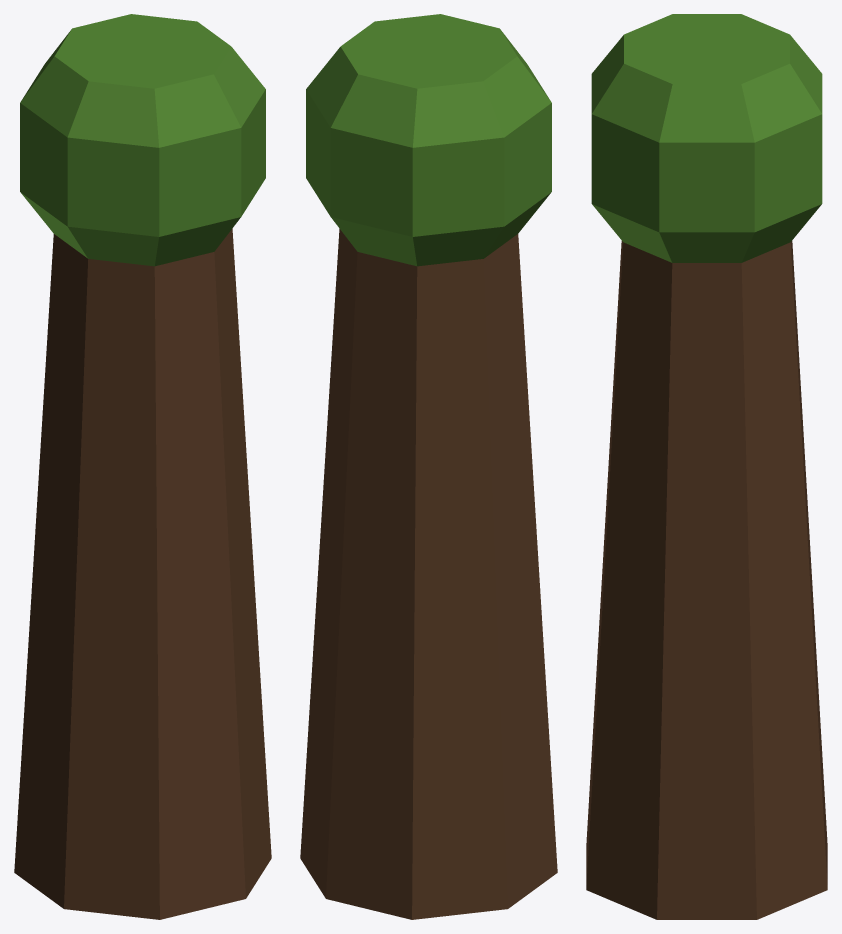
The model's file is elf_tower_broken.glb.
3 renders of one model, left to right at view 1: azimuth 30°, elevation 25°; view 2: azimuth 150°, elevation 25°; view 3: azimuth 270°, elevation 25°, orthographic.
Parts seen in each view (by area): view 1: elf_tower_piece7, elf_tower_piece8, elf_tower_piece6, elf_tower_piece5, elf_tower_piece2, elf_tower_piece3, elf_tower_piece4; view 2: elf_tower_piece0, elf_tower_piece2, elf_tower_piece6, elf_tower_piece1, elf_tower_piece7, elf_tower_piece9, elf_tower_piece5, elf_tower_piece10, elf_tower_piece3, elf_tower_piece4, elf_tower_piece8; view 3: elf_tower_piece3, elf_tower_piece9, elf_tower_piece6, elf_tower_piece7, elf_tower_piece4, elf_tower_piece0, elf_tower_piece10, elf_tower_piece1, elf_tower_piece8, elf_tower_piece2.
Boxes of the visible parts, x1,y1,x2,y2 form: elf_tower_piece7: [14, 631, 271, 919]; elf_tower_piece8: [60, 321, 243, 645]; elf_tower_piece6: [20, 14, 265, 363]; elf_tower_piece5: [42, 122, 194, 488]; elf_tower_piece2: [20, 423, 252, 780]; elf_tower_piece3: [210, 119, 265, 448]; elf_tower_piece4: [46, 315, 258, 662]; elf_tower_piece0: [314, 69, 476, 537]; elf_tower_piece2: [386, 440, 548, 834]; elf_tower_piece6: [340, 14, 543, 355]; elf_tower_piece1: [319, 419, 478, 865]; elf_tower_piece7: [359, 729, 557, 919]; elf_tower_piece9: [300, 555, 371, 906]; elf_tower_piece5: [475, 59, 551, 486]; elf_tower_piece10: [321, 246, 482, 535]; elf_tower_piece3: [306, 47, 351, 278]; elf_tower_piece4: [319, 328, 495, 545]; elf_tower_piece8: [514, 400, 535, 521]; elf_tower_piece3: [616, 72, 789, 523]; elf_tower_piece9: [655, 602, 827, 919]; elf_tower_piece6: [591, 14, 822, 344]; elf_tower_piece7: [586, 642, 827, 919]; elf_tower_piece4: [615, 349, 762, 711]; elf_tower_piece0: [747, 67, 822, 532]; elf_tower_piece10: [698, 280, 800, 569]; elf_tower_piece1: [746, 409, 825, 823]; elf_tower_piece8: [601, 277, 639, 624]; elf_tower_piece2: [598, 586, 822, 765].
Bounding box in the file's own units: 0.9146 × 3.42 × 0.9146.
